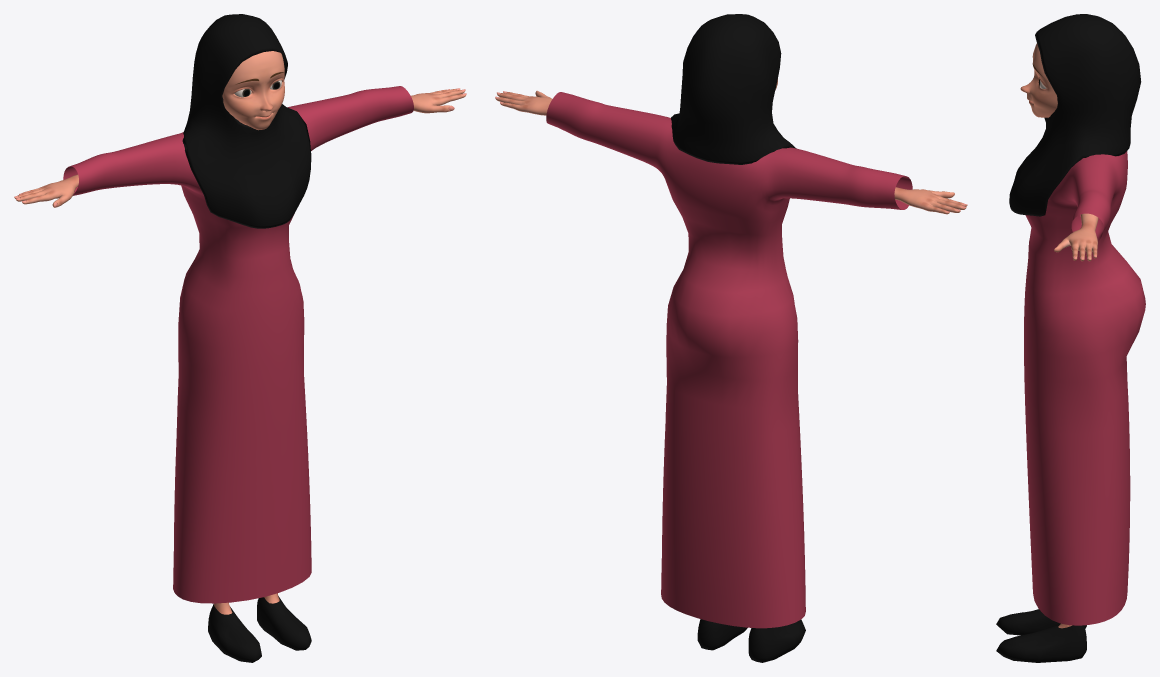
File: character6.glb
3 renders of one model, left to right at view 1: azimuth 30°, elevation 25°; view 2: azimuth 150°, elevation 25°; view 3: azimuth 270°, elevation 25°, orthographic. The views are drawn at different scales.
Parts seen in each view (by area): view 1: Box001_01 - Default_0, Box002_Material #75_0, Box003_Material #75_0, 1, 3; view 2: Box001_01 - Default_0, Box002_Material #75_0, Box003_Material #75_0, 3; view 3: Box001_01 - Default_0, Box002_Material #75_0, Box003_Material #75_0, 1, 3.
Part boxes in pixels (<box>): Box001_01 - Default_0: <box>63,86,413,603</box>; Box002_Material #75_0: <box>182,14,311,228</box>; Box003_Material #75_0: <box>208,596,311,662</box>; 1: <box>222,51,284,130</box>; 3: <box>14,89,466,207</box>; Box001_01 - Default_0: <box>546,92,912,628</box>; Box002_Material #75_0: <box>671,14,796,164</box>; Box003_Material #75_0: <box>697,619,805,662</box>; 3: <box>495,90,967,214</box>; Box001_01 - Default_0: <box>1024,151,1145,625</box>; Box002_Material #75_0: <box>1009,14,1141,216</box>; Box003_Material #75_0: <box>996,609,1086,662</box>; 1: <box>1020,43,1057,117</box>; 3: <box>1054,213,1098,261</box>.
Bounding box in the file's own units: 1.18 × 1.54 × 0.3324.
Materials: 11 (9 with a texture image).
